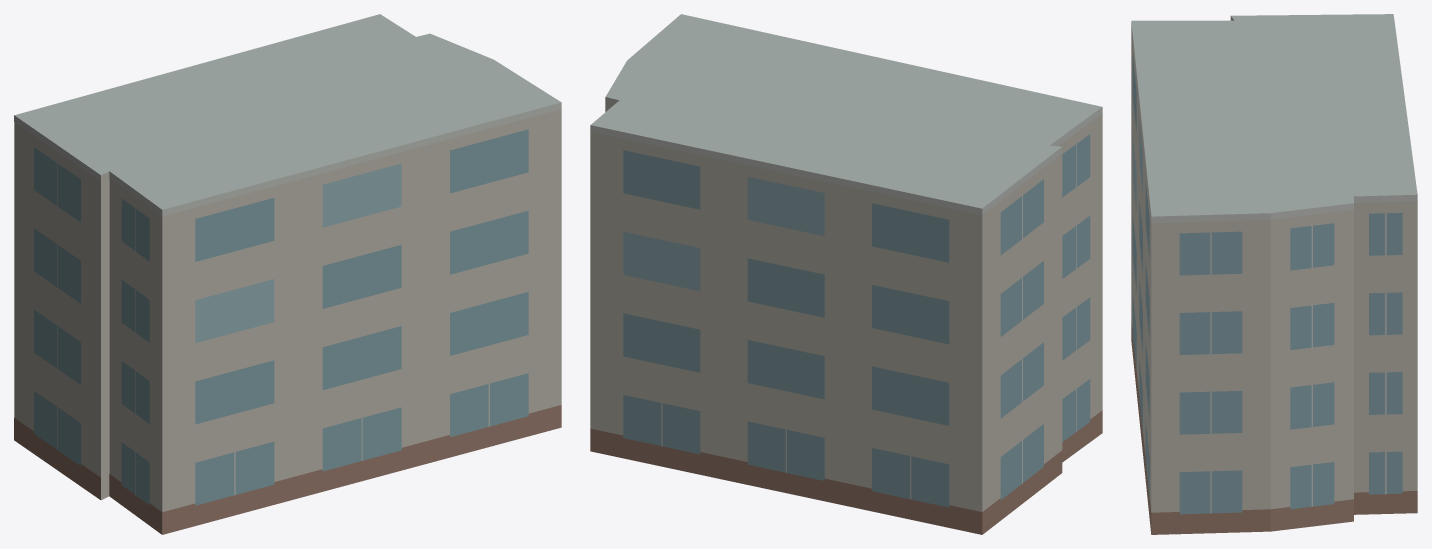
The model's file is survey-upis-32475164.glb.
The picture shows the model from 3 angles, left to right: view 1: azimuth 30°, elevation 25°; view 2: azimuth 150°, elevation 25°; view 3: azimuth 270°, elevation 25°; orthographic projection. The views are drawn at different scales.
Parts seen in each view (by area): view 1: survey-upis-32475164.tmp; view 2: survey-upis-32475164.tmp; view 3: survey-upis-32475164.tmp.
Boxes of the visible parts, box(x1,y1,x2,y2) form: survey-upis-32475164.tmp: box(14, 14, 561, 534); survey-upis-32475164.tmp: box(590, 14, 1102, 534); survey-upis-32475164.tmp: box(1131, 14, 1417, 534).
Bounding box in the file's own units: 16.38 × 12 × 9.79.
